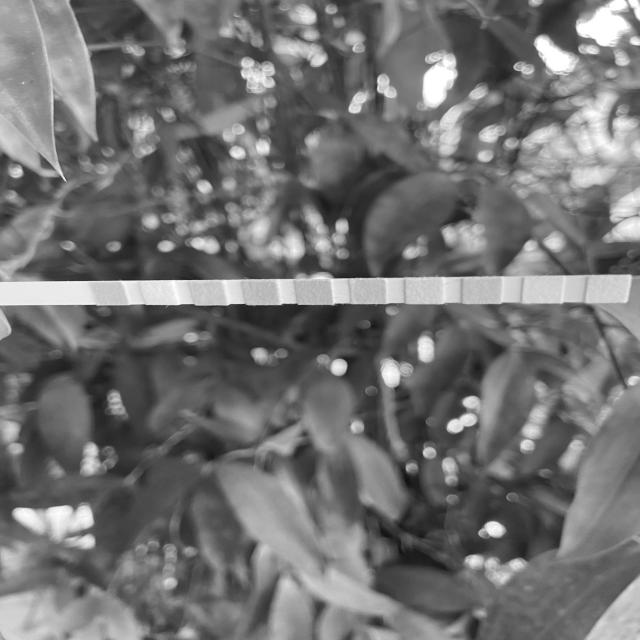Bilirubin: (146, 281, 173, 305)
Blood: (298, 280, 332, 305)
Glucose: (97, 282, 121, 305)
Ketone: (196, 281, 222, 305)
Leukocytes: (588, 276, 626, 303)
Nitrite: (524, 277, 562, 303)
Protein: (407, 278, 443, 304)
SpGravity: (247, 280, 278, 305)
Urobilinogen: (464, 277, 502, 304)
background: (0, 0, 640, 640)
pH: (351, 279, 386, 304)
strip: (8, 275, 631, 306)
